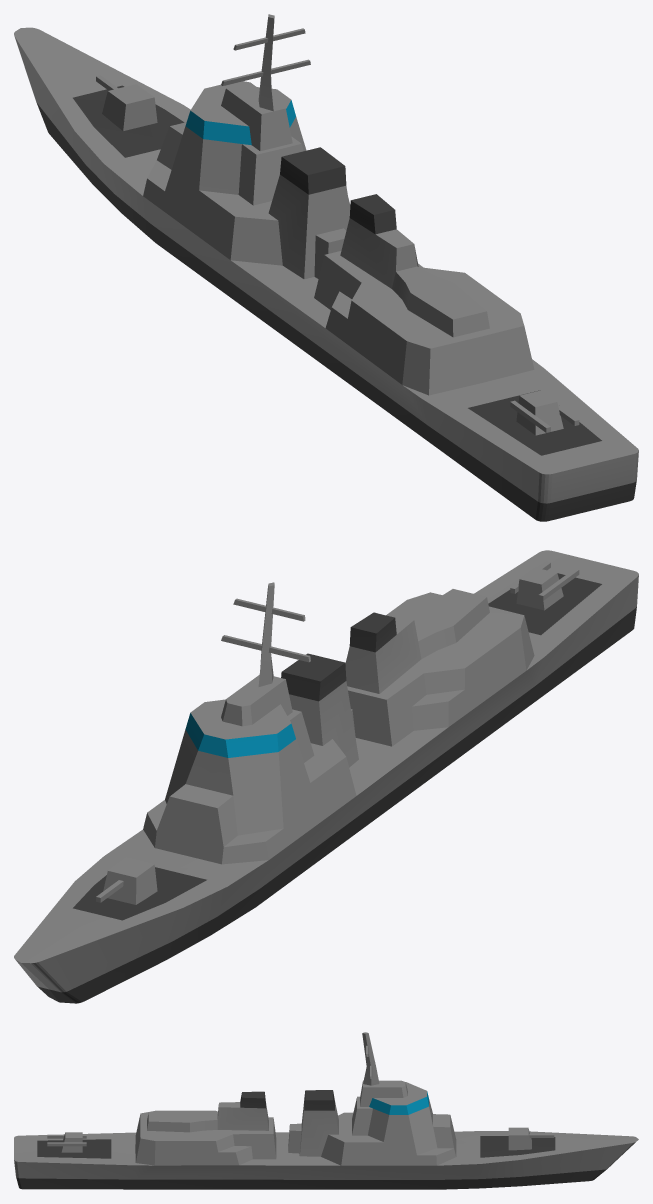
3 views of the same model, one above another, from view 1: azimuth 30°, elevation 25°; view 2: azimuth 150°, elevation 25°; view 3: azimuth 270°, elevation 25° (orthographic). The views are drawn at different scales.
Parts seen in each view (by area): view 1: Body, gun-turret, sam-turret; view 2: Body, gun-turret, sam-turret; view 3: Body, gun-turret, sam-turret, sam-muzzle.
Part boxes in pixels (x1,y1,x2,y2): Body: (14, 14, 638, 521); gun-turret: (102, 84, 157, 131); sam-turret: (516, 390, 563, 435); Body: (14, 550, 638, 1003); gun-turret: (103, 857, 157, 904); sam-turret: (516, 567, 563, 610); Body: (14, 1032, 638, 1189); gun-turret: (508, 1127, 531, 1150); sam-turret: (61, 1132, 82, 1152); sam-muzzle: (47, 1134, 86, 1146).
Bounding box in the file's own units: 16.04 × 31.97 × 126.
